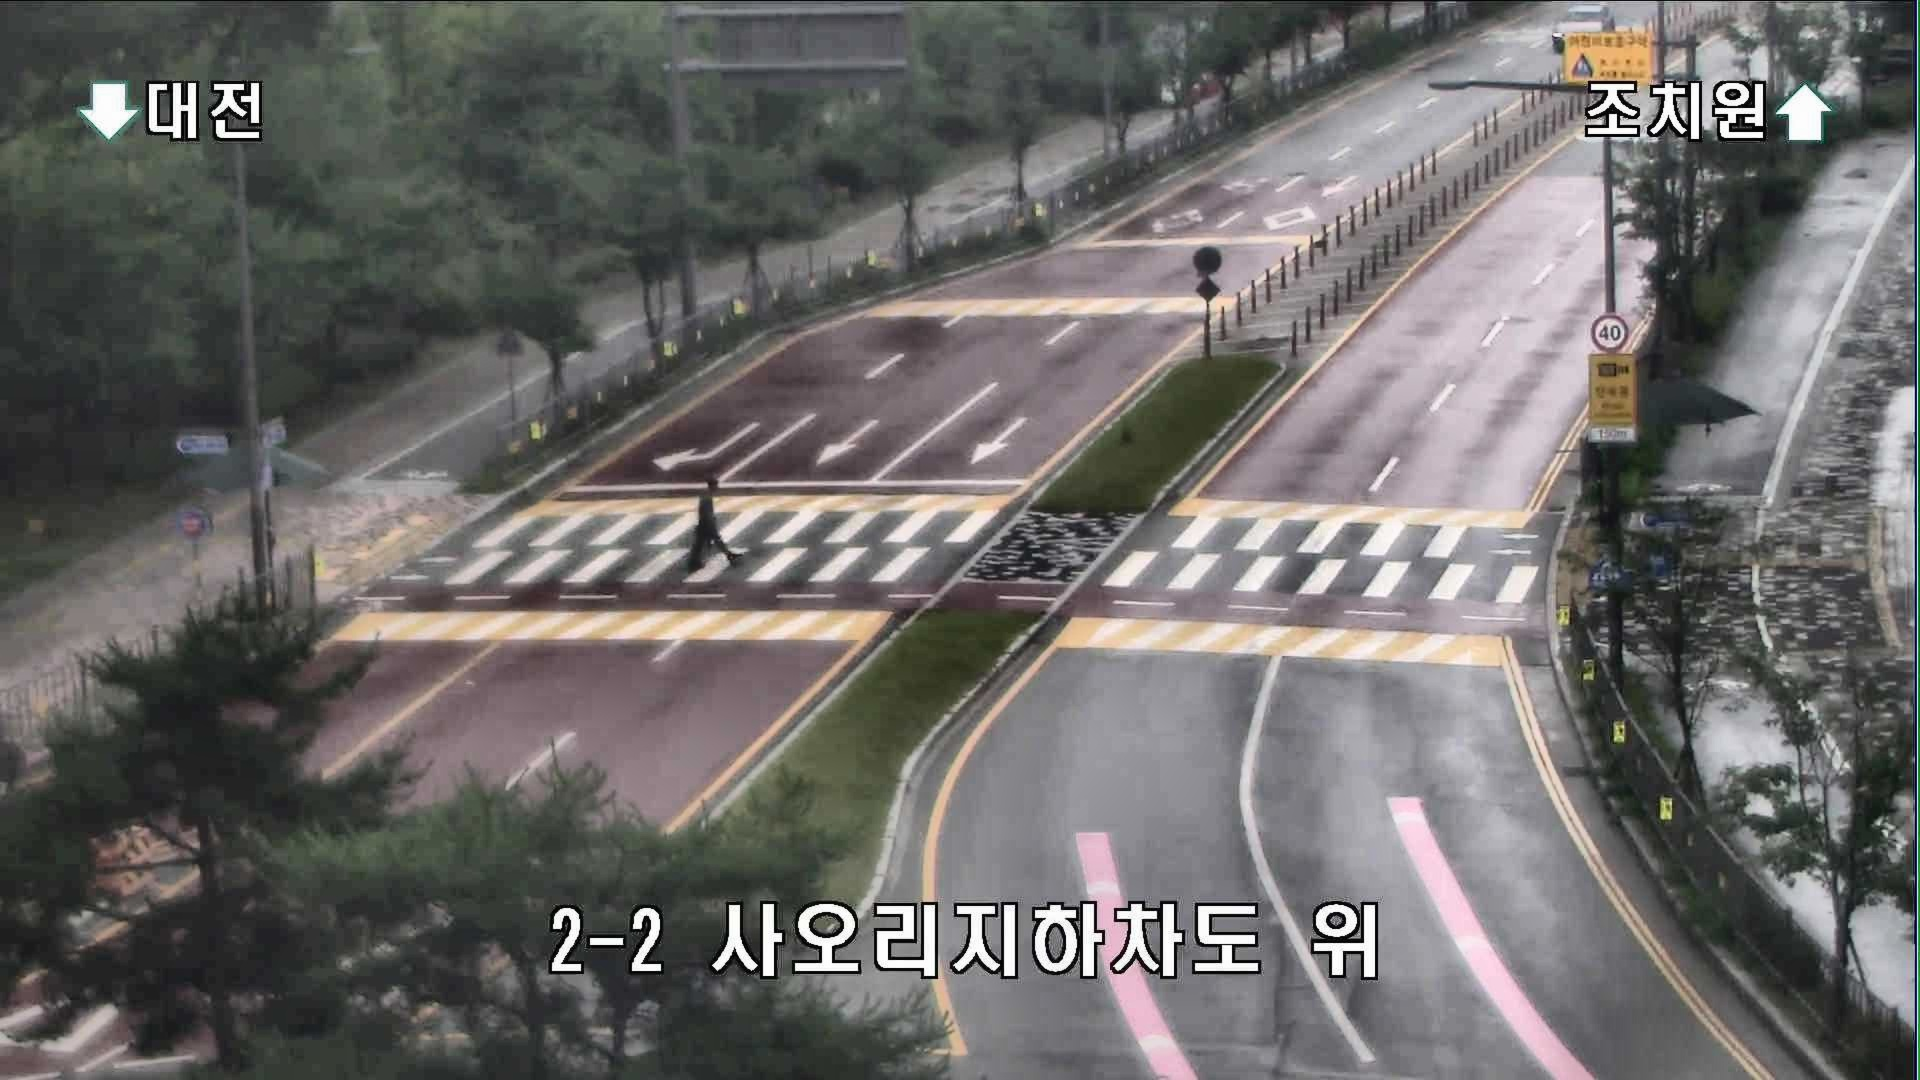crosswalk: (691, 471, 741, 566)
